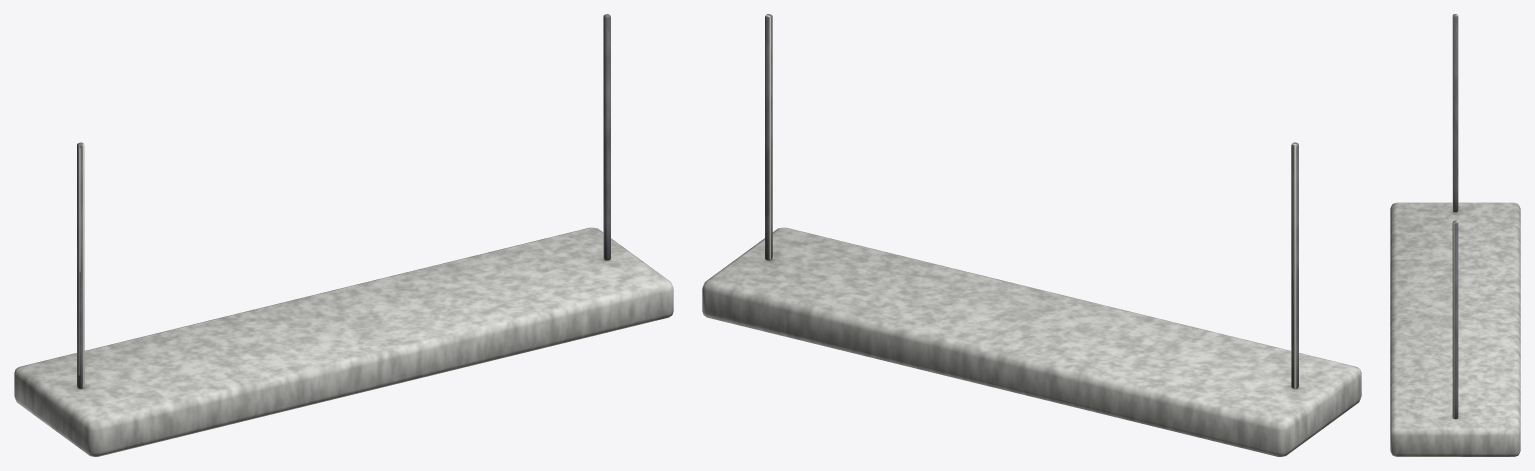
File: ceiling_light.fbx
3 views of the same model, side by side, from view 1: azimuth 30°, elevation 25°; view 2: azimuth 150°, elevation 25°; view 3: azimuth 270°, elevation 25° (orthographic). The views are drawn at different scales.
Visible parts, largest first — view 1: Body; view 2: Body; view 3: Body.
Part boxes in pixels (x1,y1,x2,y2): Body: (14, 14, 673, 456); Body: (702, 14, 1361, 456); Body: (1390, 14, 1520, 456).
Bounding box in the file's own units: 10 × 4.64 × 2.4.
Materials: 1 (1 with a texture image).
